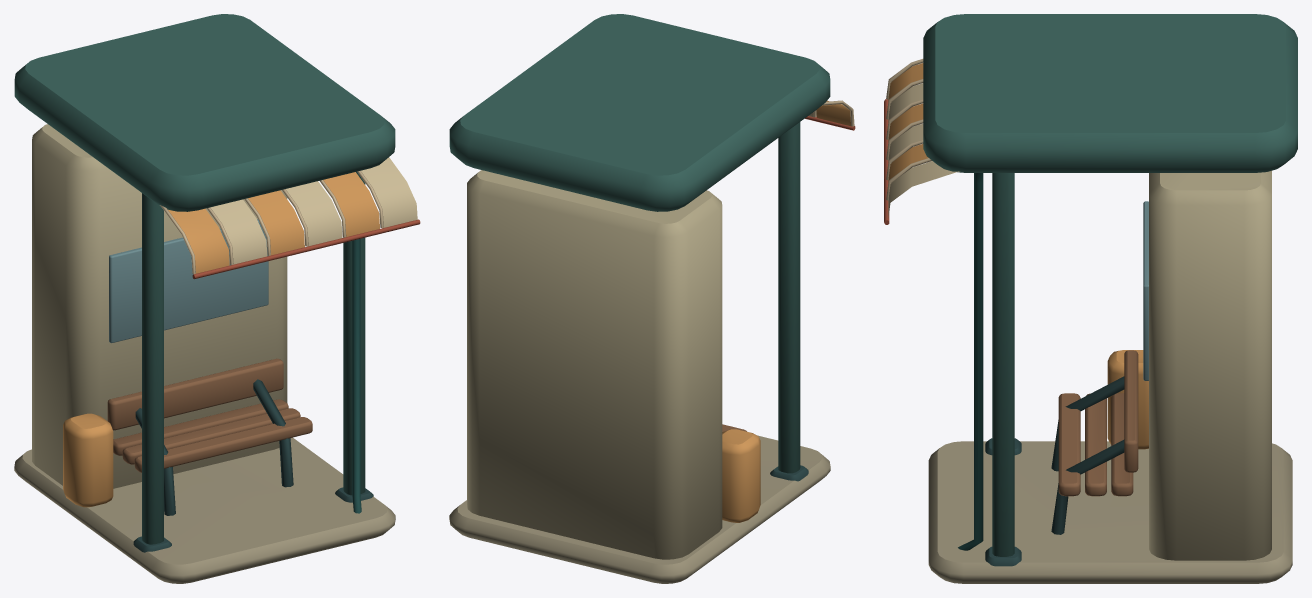
The model's file is annex_parking_5.glb.
3 renders of one model, left to right at view 1: azimuth 30°, elevation 25°; view 2: azimuth 150°, elevation 25°; view 3: azimuth 270°, elevation 25°, orthographic. The views are drawn at different scales.
Parts seen in each view (by area): view 1: AnnexParking5; view 2: AnnexParking5; view 3: AnnexParking5.
Boxes of the visible parts, left/top/right/bottom form: AnnexParking5: left=14, top=14, right=420, bottom=583; AnnexParking5: left=449, top=14, right=855, bottom=583; AnnexParking5: left=884, top=14, right=1297, bottom=583.
Size of the model in its own units: 2.12 by 3.38 by 2.82.
